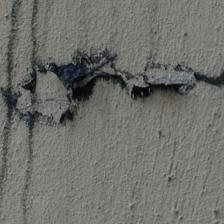Crack: (18, 118, 107, 199), (65, 105, 147, 151)
